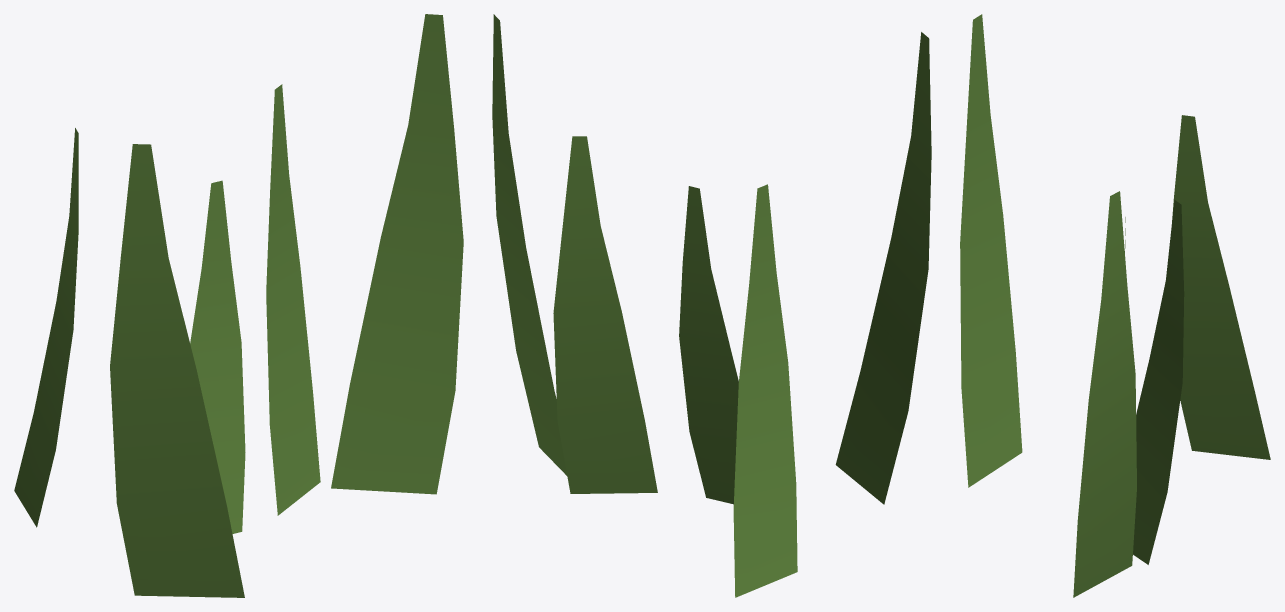
File: grass_blade.glb
The picture shows the model from 3 angles, left to right: view 1: azimuth 30°, elevation 25°; view 2: azimuth 150°, elevation 25°; view 3: azimuth 270°, elevation 25°; orthographic projection. The views are drawn at different scales.
Parts seen in each view (by area): view 1: grass_blade; view 2: grass_blade; view 3: grass_blade.
Part boxes in pixels (box(x1,y1,x2,y2)): grass_blade: box(14, 14, 463, 597); grass_blade: box(492, 14, 931, 597); grass_blade: box(960, 14, 1270, 597).
Size of the model in its own units: 6.62 by 7.47 by 4.92.
